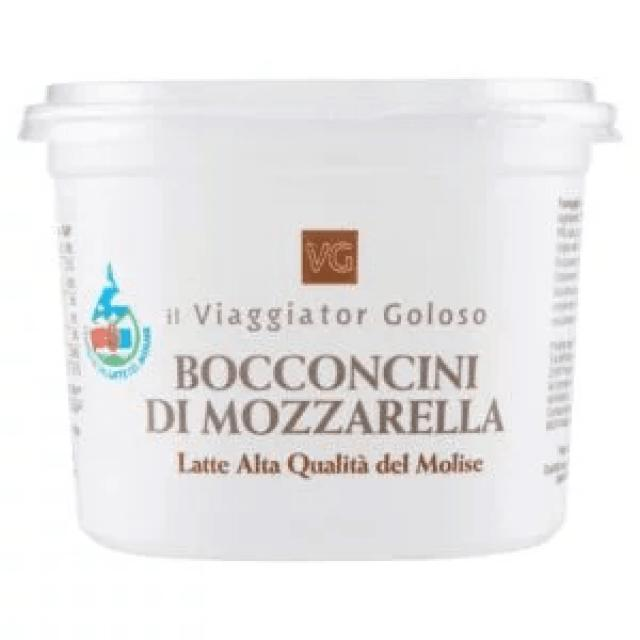Cheese: (49, 81, 617, 563)
